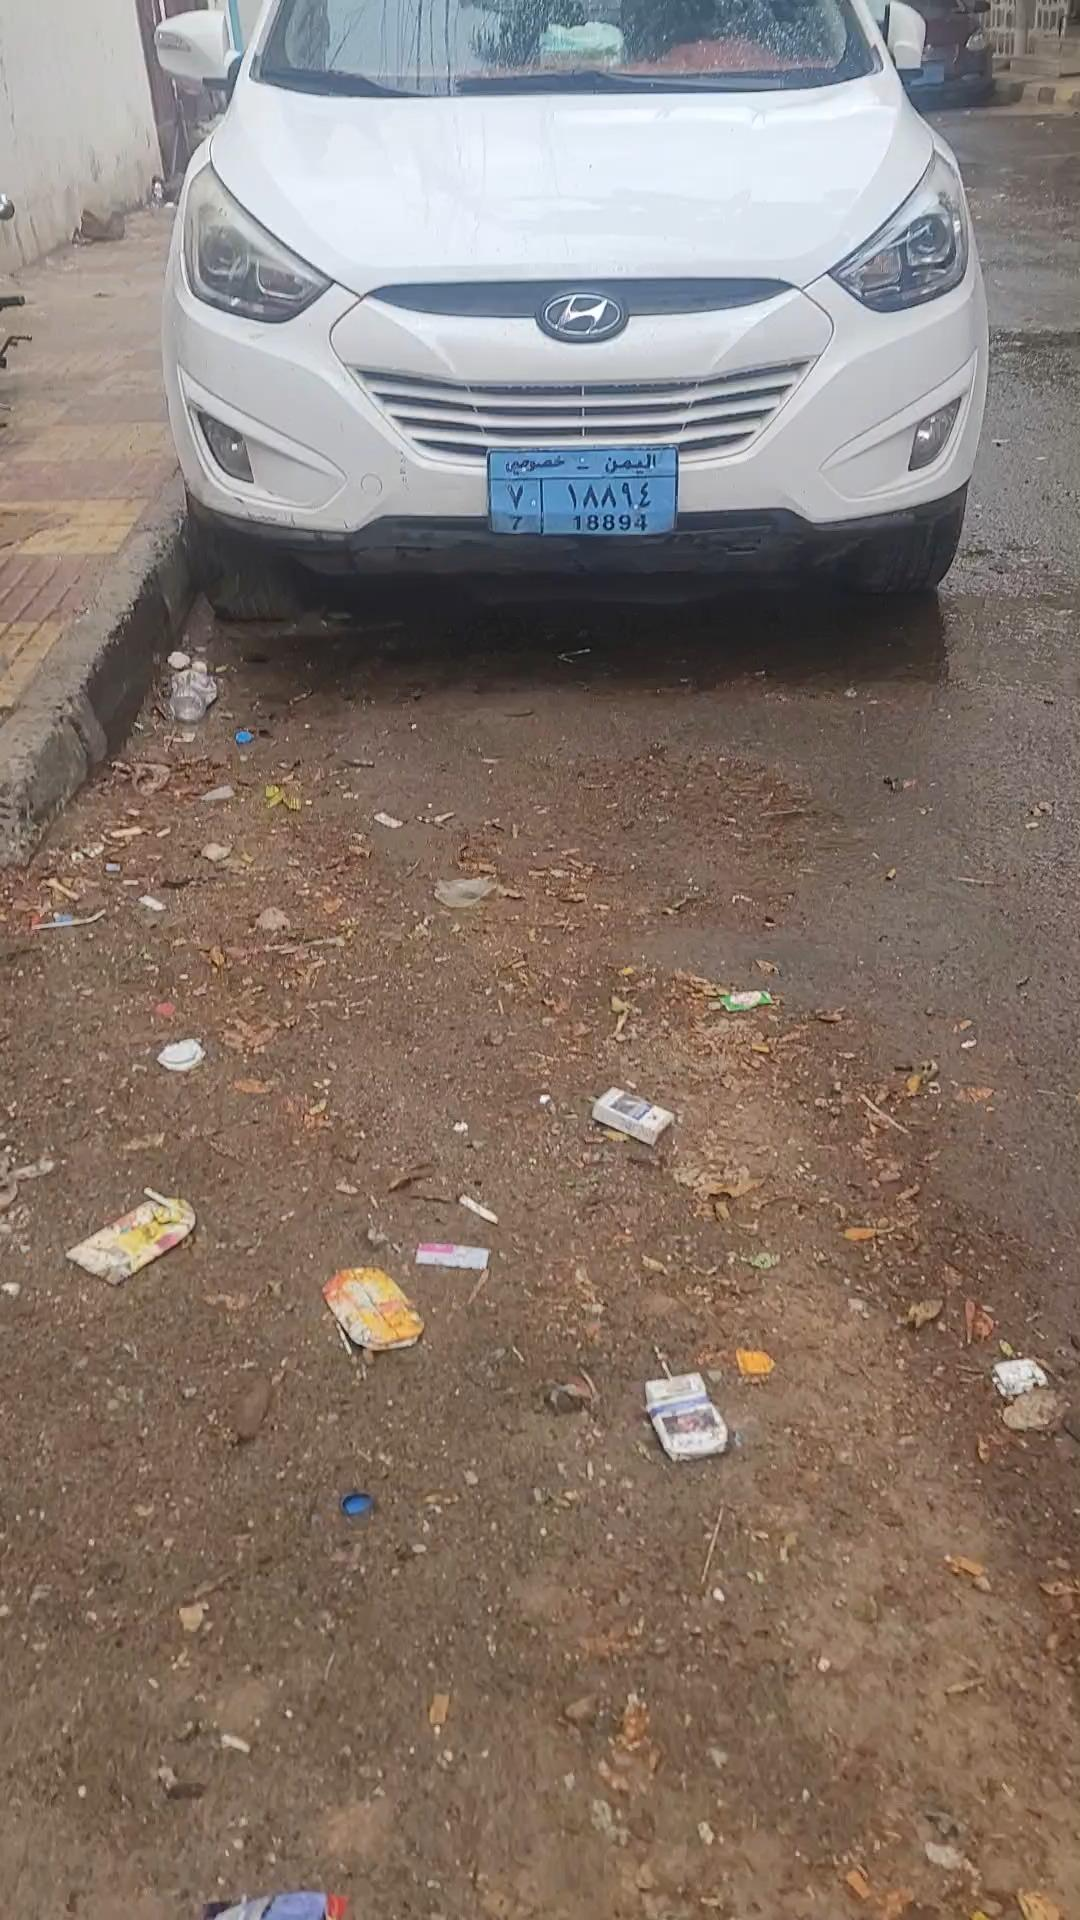privte: (489, 448, 676, 534)
